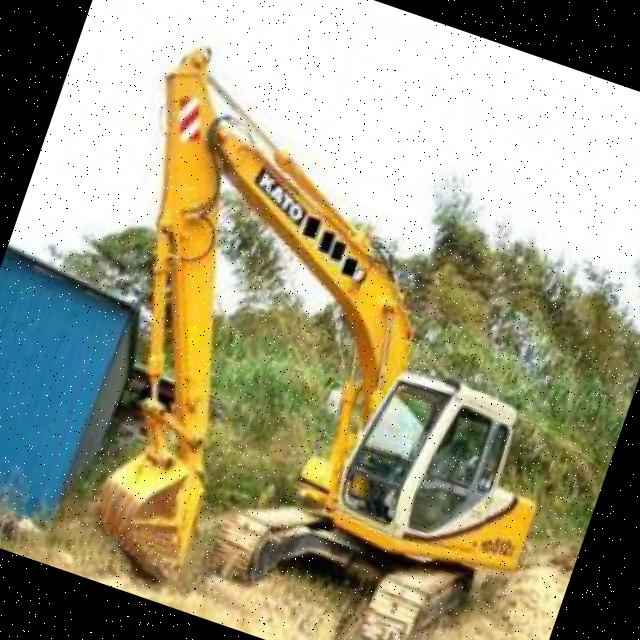Excavator: (2, 24, 640, 640)
